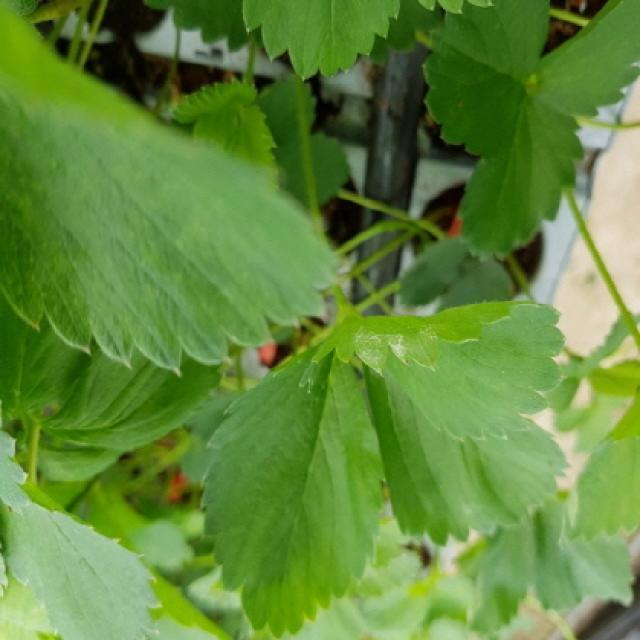powdery_mildew_leaf: (308, 299, 568, 444)
